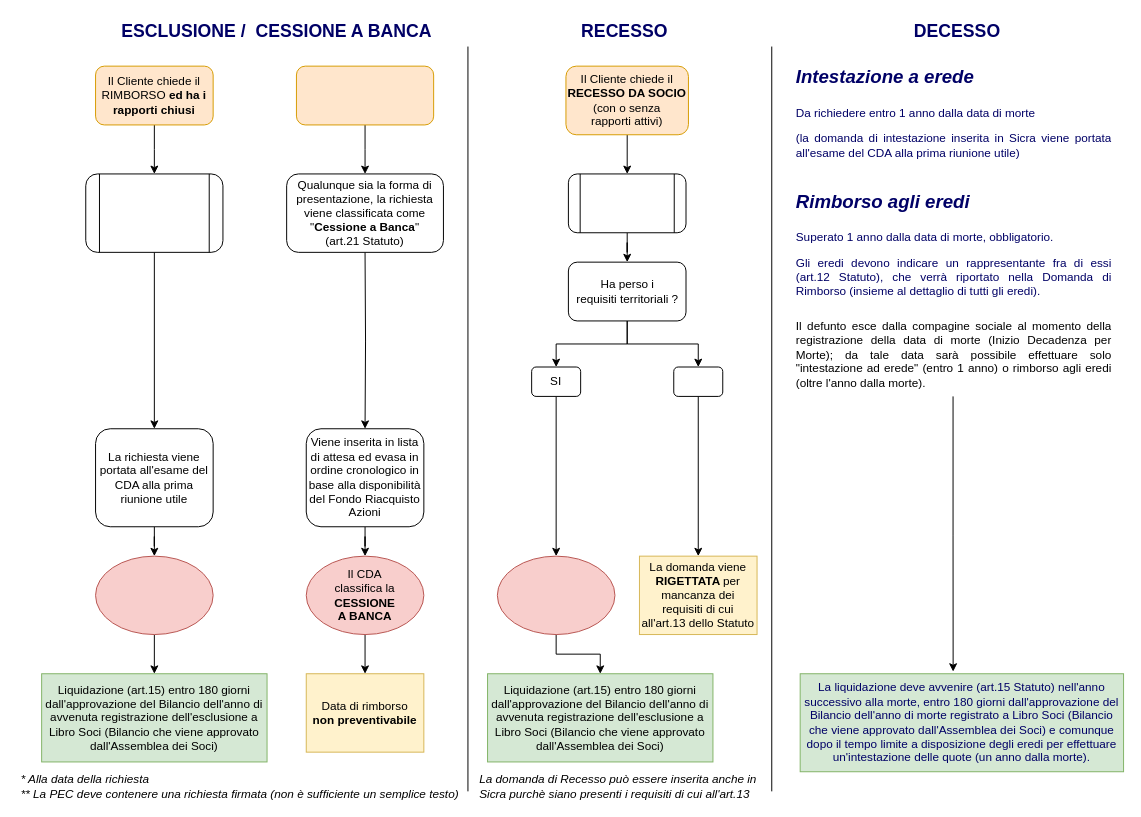
Some shapes in this 1141 by 817 pixel diagram are drawn without their labels. Each missing label, with the box of its shape:
Il CDA accoglie la domanda e delibera l' ESCLUSIONE: (496, 555, 615, 635)
Il CDA può deliberare l' ESCLUSIONE: (95, 555, 213, 635)
Il Cliente chiede il RIMBORSO ed ha dei rapporti ancora attivi *: (295, 65, 434, 125)
NO: (673, 366, 723, 396)
Raccomandata o PEC ** in autonomia: (567, 173, 686, 233)
Raccomandata o PEC ** in autonomia (nessun modello previsto in Banca): (85, 173, 223, 252)
